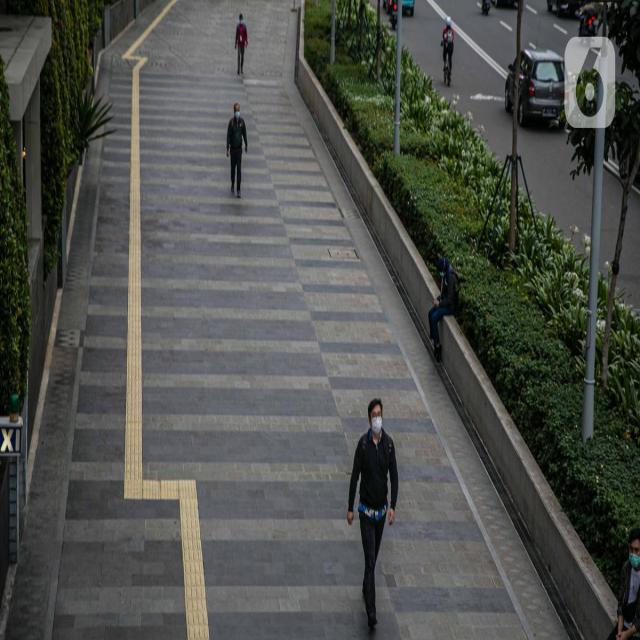pejalan-kaki: (358, 382, 409, 640), (228, 101, 250, 239), (229, 0, 257, 98)
